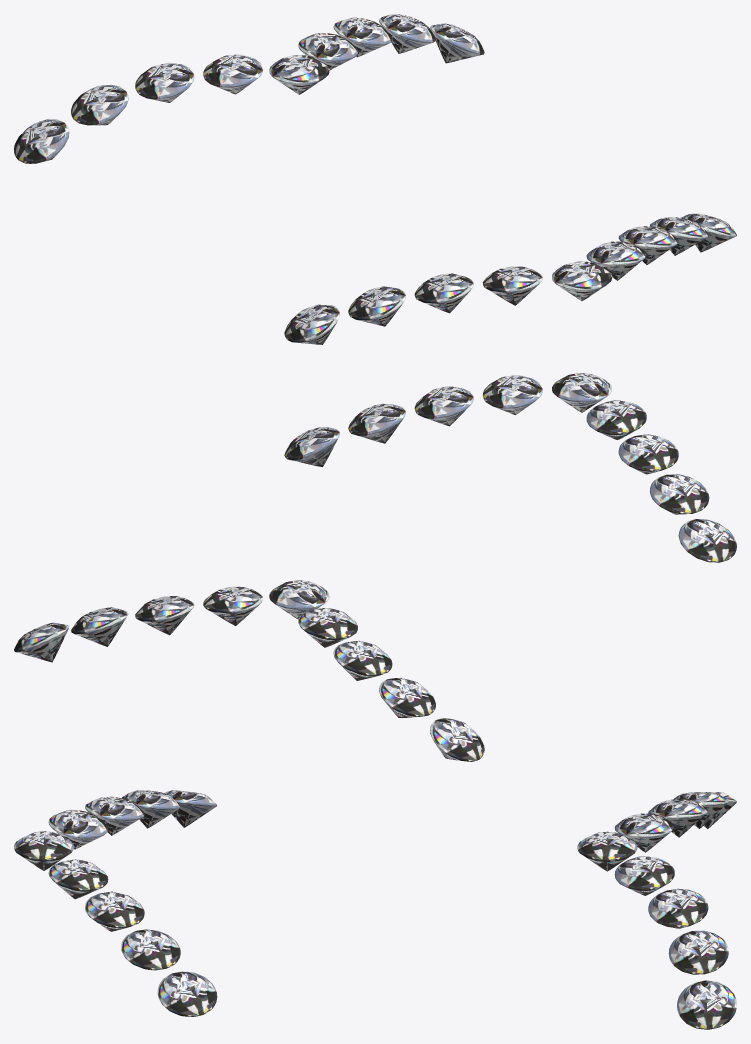
3 views of the same model, one above another, from view 1: azimuth 30°, elevation 25°; view 2: azimuth 150°, elevation 25°; view 3: azimuth 270°, elevation 25° (orthographic).
Parts seen in each view (by area): view 1: Done; view 2: Done; view 3: Done.
Boxes of the visible parts, x1=… form: Done: x1=14, y1=14, x2=736, y2=344; Done: x1=14, y1=373, x2=736, y2=761; Done: x1=14, y1=790, x2=736, y2=1029.
Size of the model in its own units: 11.53 by 15.67 by 2.07.
Materials: 1 (1 with a texture image).
